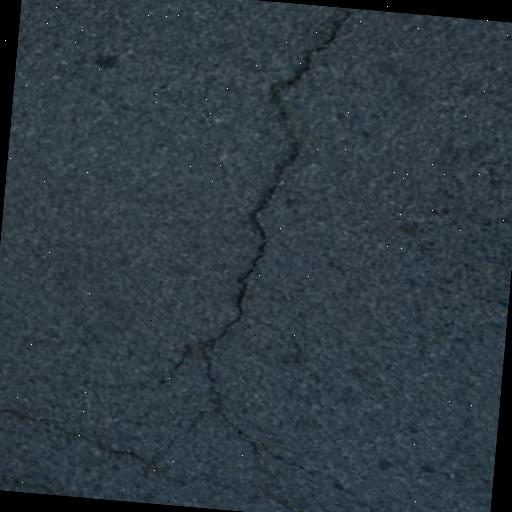spalling: (190, 15, 397, 512), (84, 327, 208, 409)
